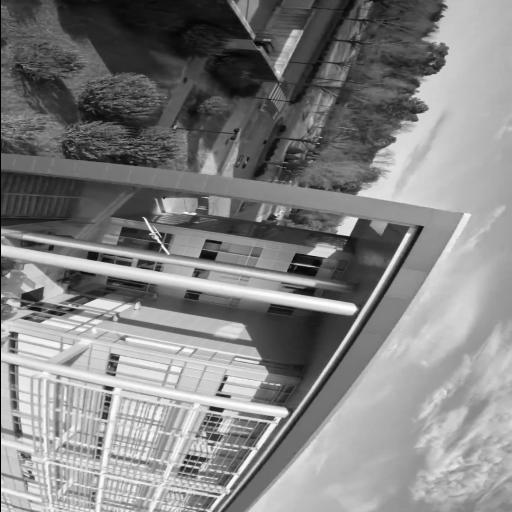uav: (140, 215, 172, 256)
